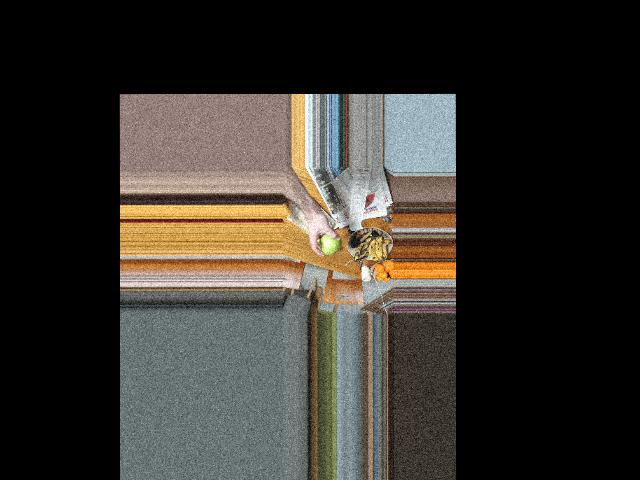apple: (320, 231, 337, 254)
